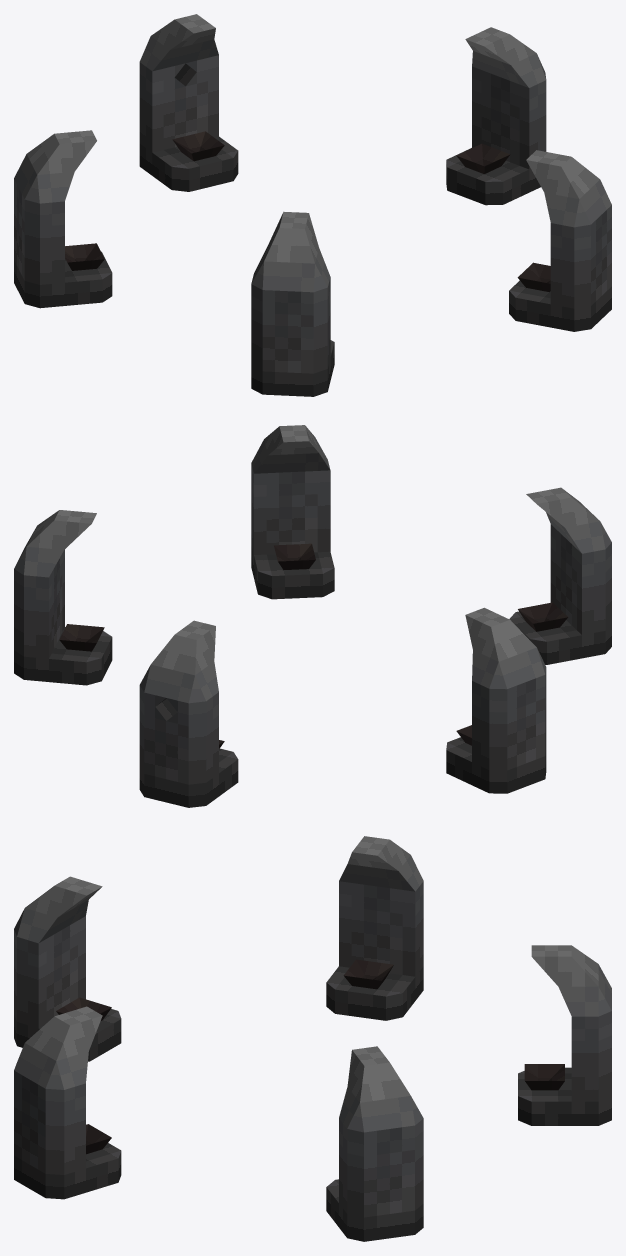
Rendered from circle_fabrication_body.obj.
3 renders of one model, top to bottom at view 1: azimuth 30°, elevation 25°; view 2: azimuth 150°, elevation 25°; view 3: azimuth 270°, elevation 25°, orthographic. The views are drawn at different scales.
Visible parts, largest first — view 1: CIRCLE_FABRICATION_STANDING_STONES_Cube.045; view 2: CIRCLE_FABRICATION_STANDING_STONES_Cube.045; view 3: CIRCLE_FABRICATION_STANDING_STONES_Cube.045.
Boxes of the visible parts, x1,y1,x2,y2 form: CIRCLE_FABRICATION_STANDING_STONES_Cube.045: (14,14,611,396); CIRCLE_FABRICATION_STANDING_STONES_Cube.045: (14,425,611,807); CIRCLE_FABRICATION_STANDING_STONES_Cube.045: (14,836,611,1241).
Bounding box in the file's own units: 2.93 × 0.8125 × 2.79.
